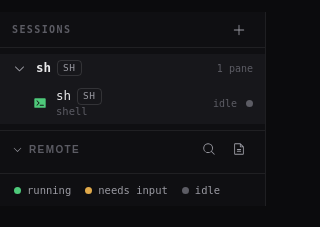
Scenario: Sidebar — renaming a session › a blur saves too (clicking elsewhere keeps what you typed)
Double-click the text with class "session" at (44, 68), box [36,60,51,76]
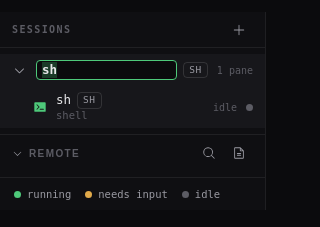
Replace the text in the field with class "tree-rename" with "api" at (107, 70), box [36,60,177,80]
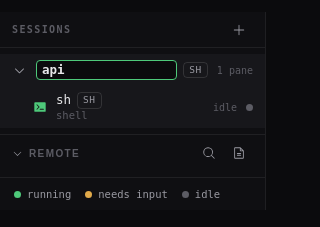
Leave the field with class "tree-rename", box [36,60,177,80]
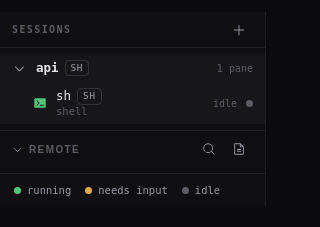
Now the text "api" is shown, box [36,60,59,76]
